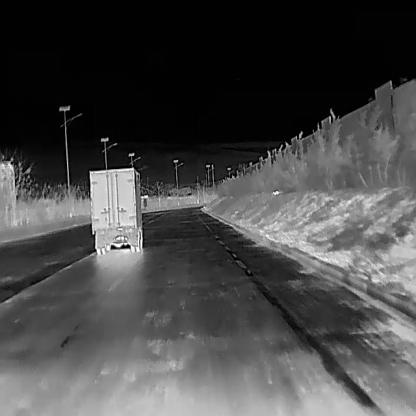truck: (88, 166, 146, 252)
